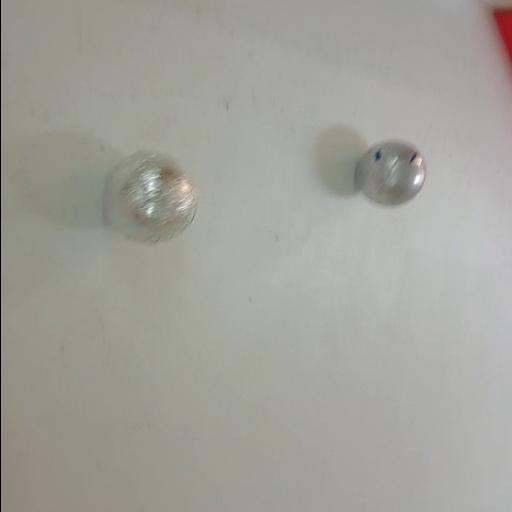alive: (100, 148, 200, 250), (352, 138, 430, 212)
